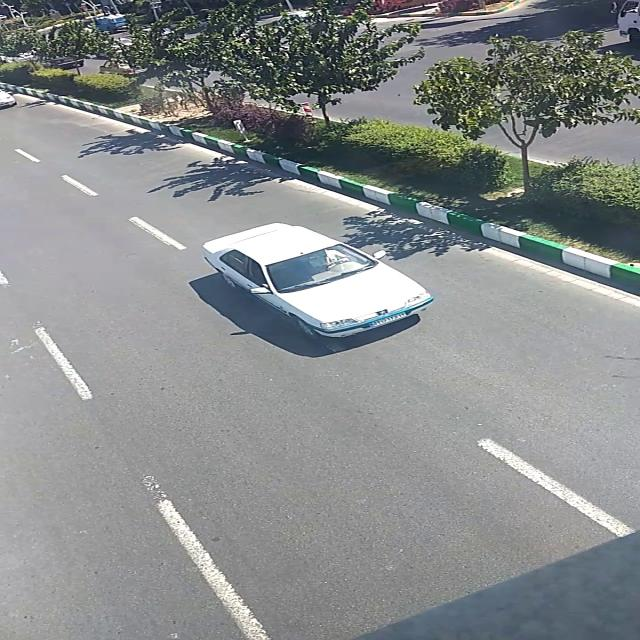car: (203, 223, 434, 338)
